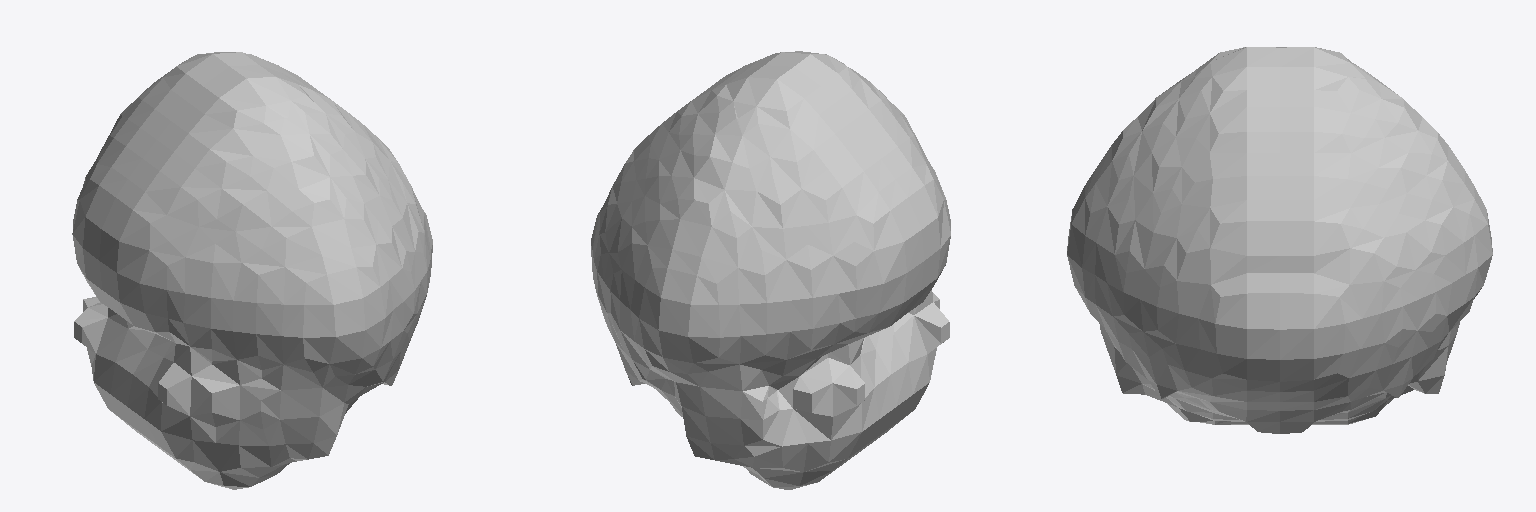
The model's file is smoke.obj.
3 renders of one model, left to right at view 1: azimuth 30°, elevation 25°; view 2: azimuth 150°, elevation 25°; view 3: azimuth 270°, elevation 25°, orthographic.
Parts seen in each view (by area): view 1: 立方体; view 2: 立方体; view 3: 立方体.
Boxes of the visible parts, x1,y1,x2,y2 form: 立方体: [72, 52, 432, 489]; 立方体: [591, 51, 950, 489]; 立方体: [1067, 47, 1492, 433].
Bounding box in the file's own units: 13.31 × 15.92 × 15.68.